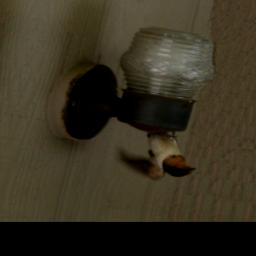Swallow: (111, 124, 204, 187)
